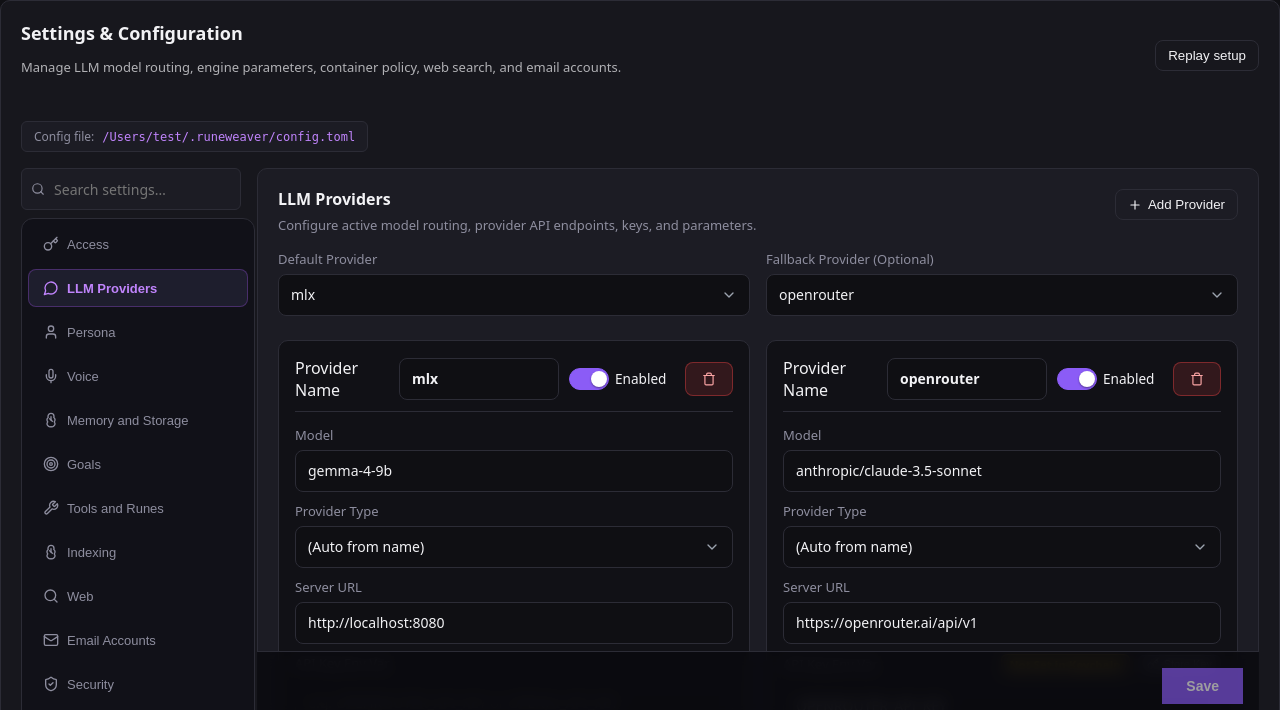
Test: SettingsManager › allows adding a new provider and saving changes
The width and height of the screenshot is (1280, 710).
Expected: the 1st field showing "gemma-4-9b" is shown, x1=295 y1=450 x2=733 y2=492
Click the button "Add Provider" at (1176, 204), box x1=1115 y1=189 x2=1238 y2=220
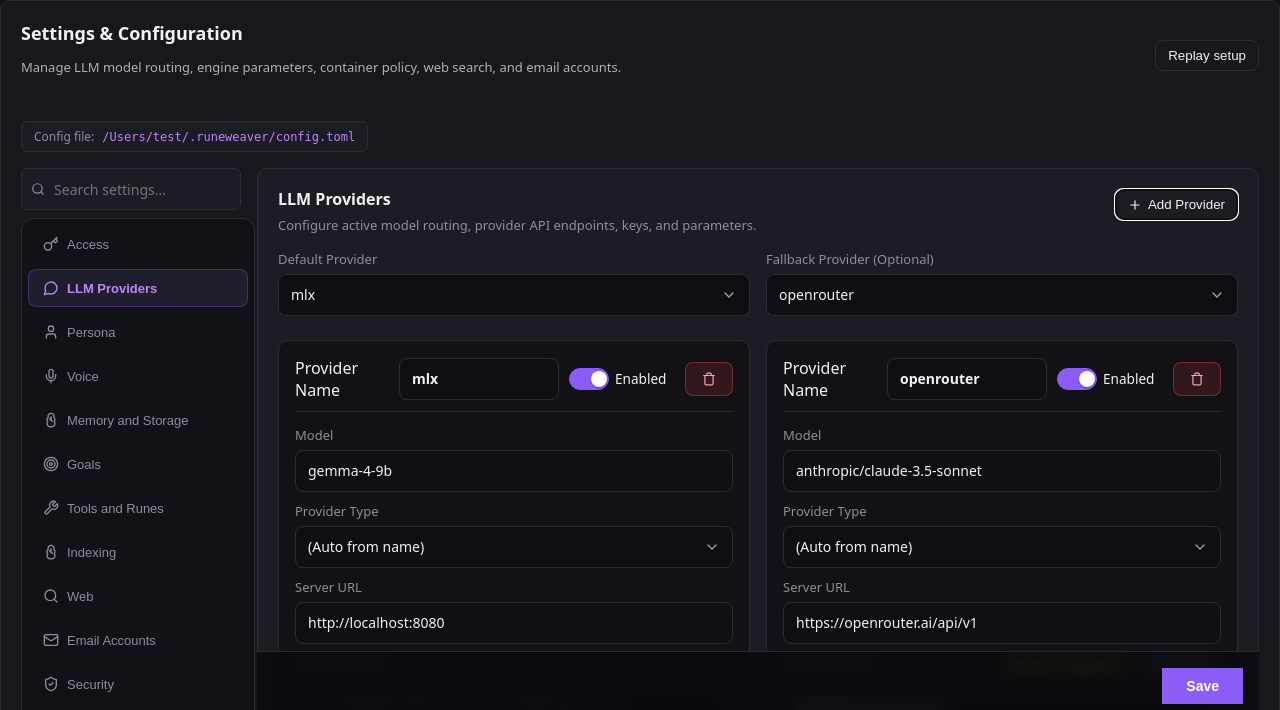
Click the button "Save" at (1203, 686), box x1=1162 y1=668 x2=1243 y2=704
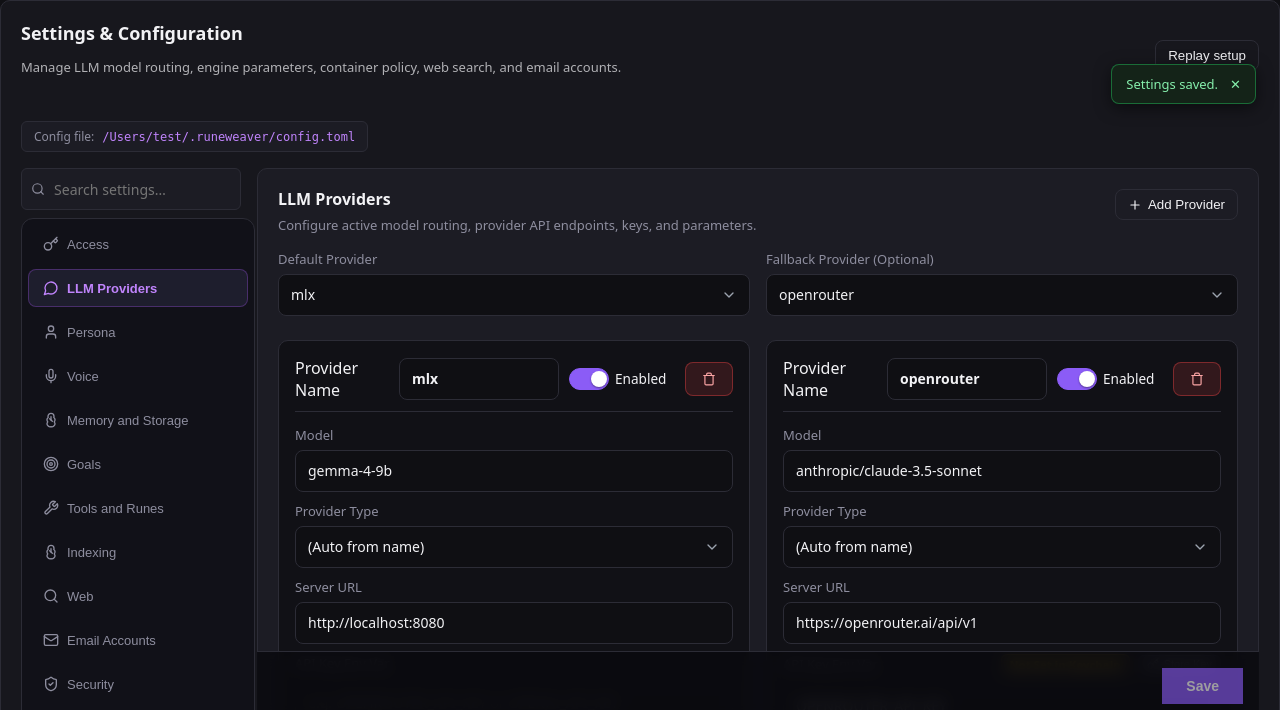
Now the text "Settings saved." is shown, box x1=1126 y1=75 x2=1218 y2=93
